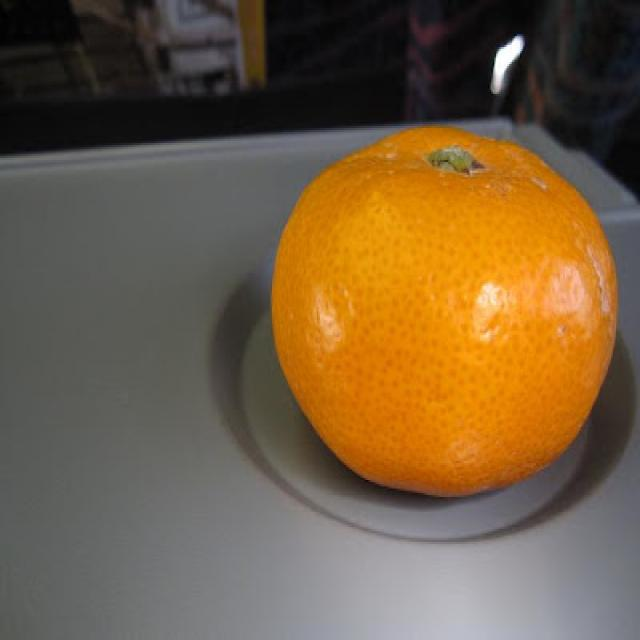Orange: (271, 127, 620, 498)
